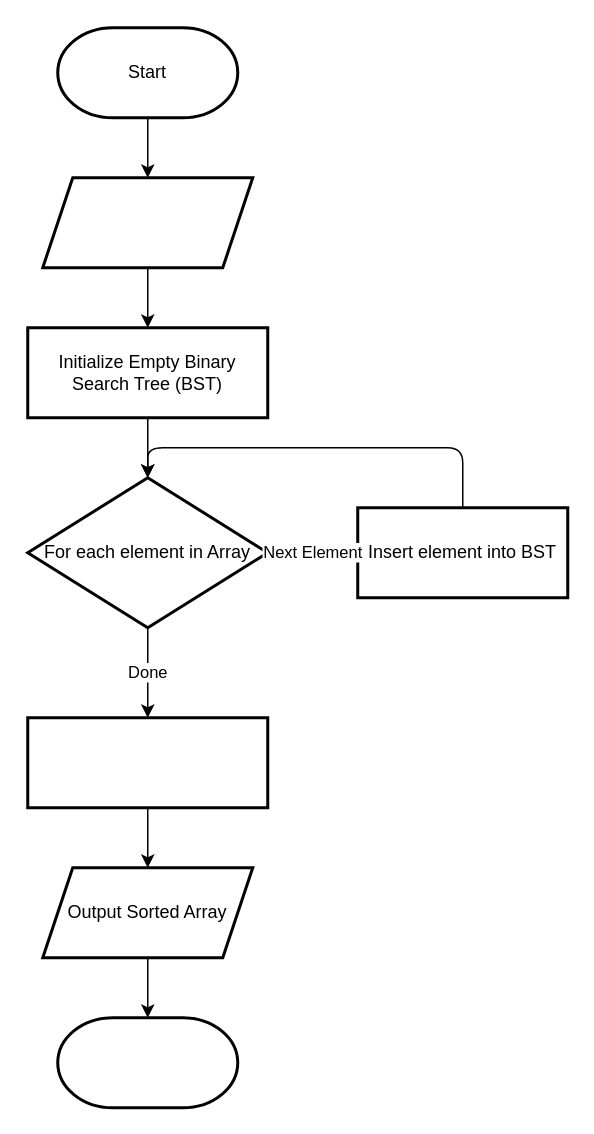
The diagram is 594 pixels wide and 1134 high, and some of its shapes have lost their labels. The shapes that lost their labels are listed below. From the top down, each one's centre as x and y in pixels, then its label:
At [147,222]: "Input Array".
At [147,762]: "Perform In-order Traversal of BST".
At [147,1062]: "End".
